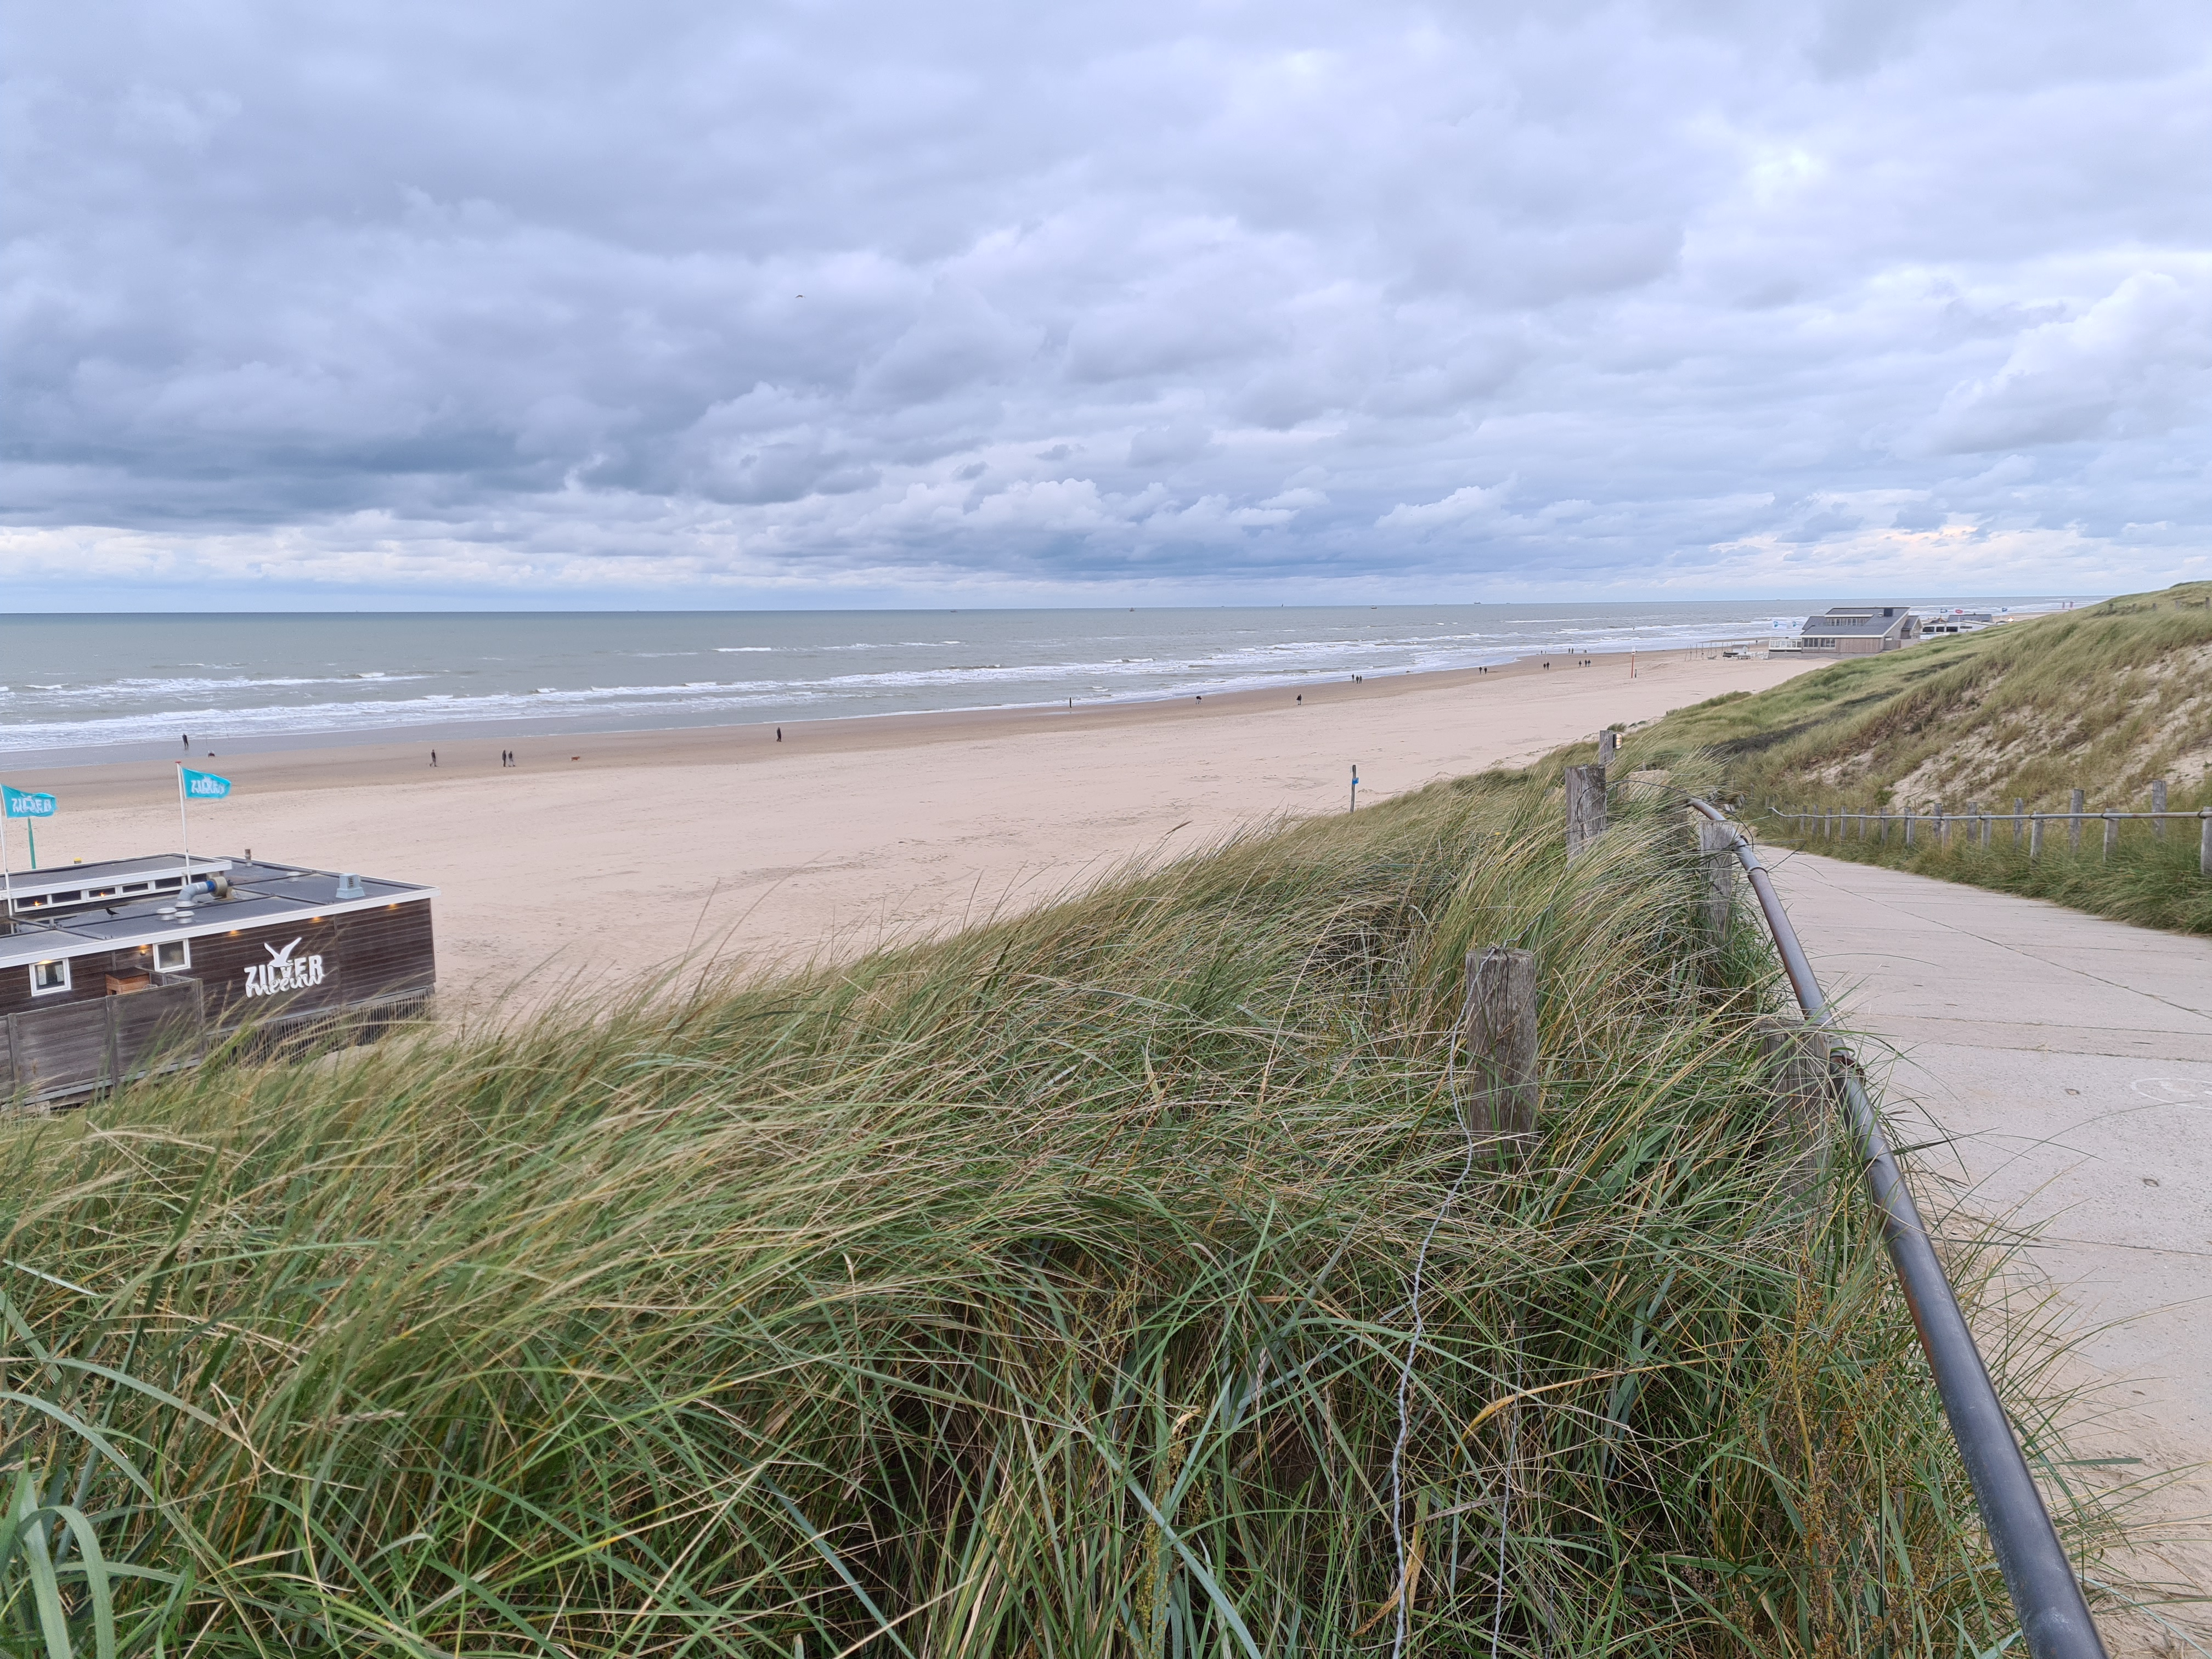strandtent: (1750, 587, 1940, 674)
